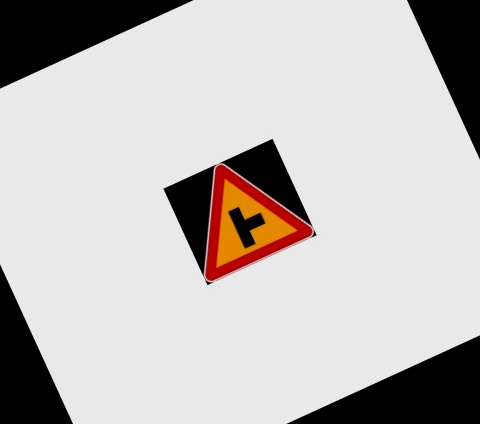South Korea_Intersection to left: (89, 68, 391, 355)
